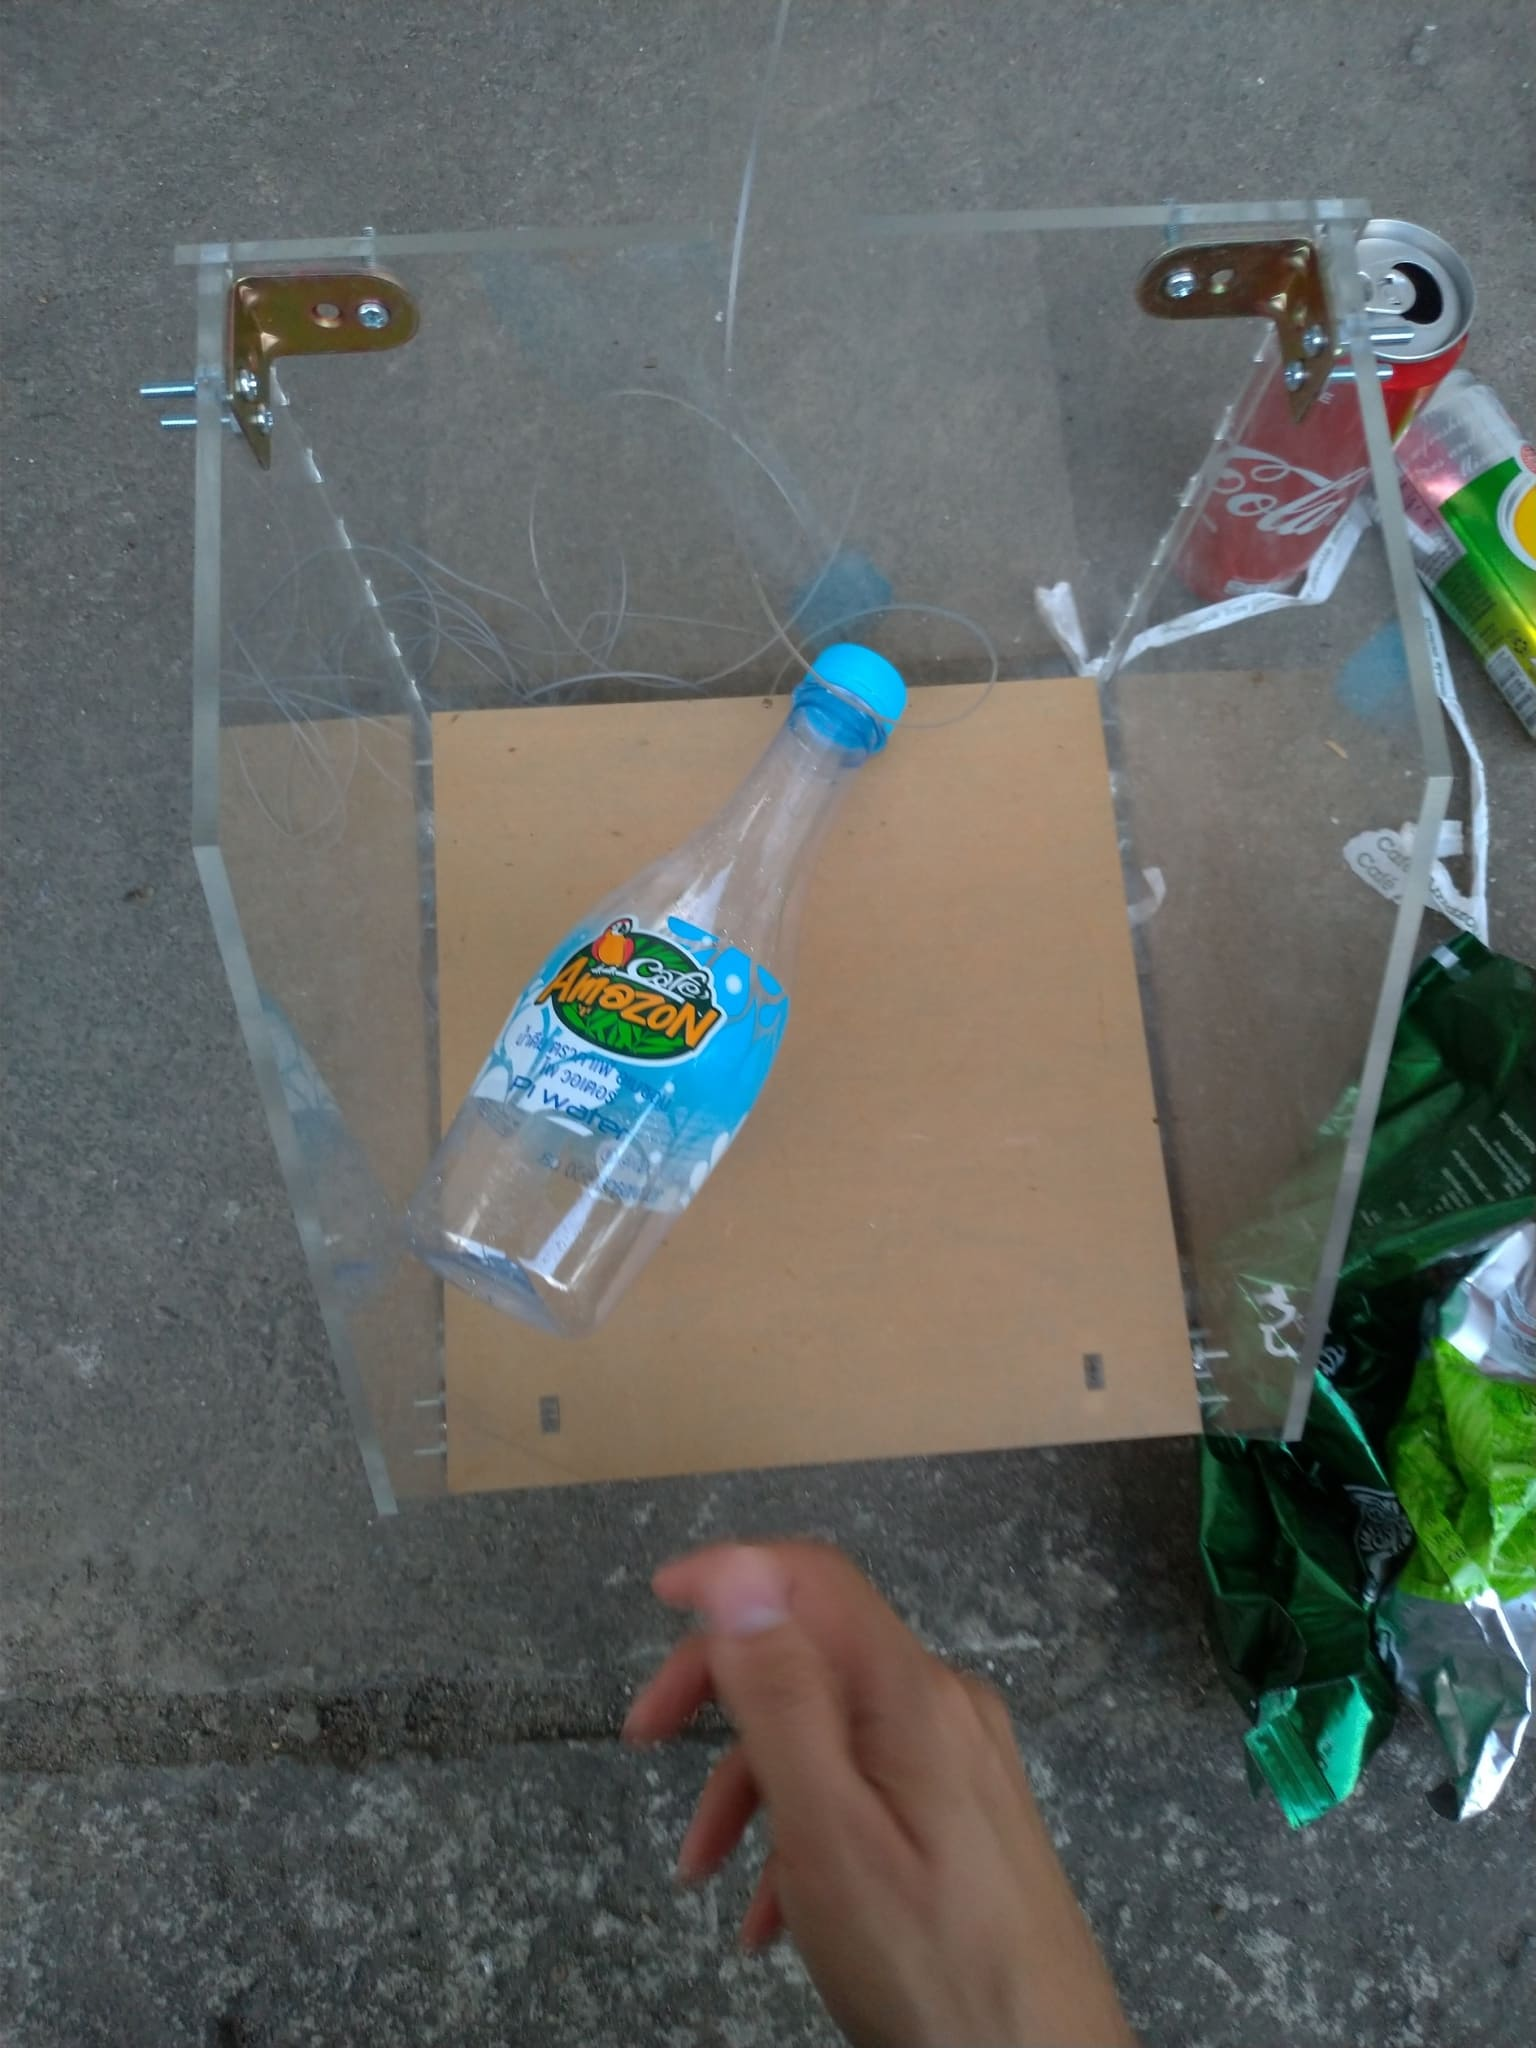AlCan: (1171, 213, 1480, 613), (1379, 368, 1536, 716)
Others: (1183, 939, 1536, 1825), (1383, 1219, 1536, 1832), (1016, 490, 1388, 681), (1350, 571, 1509, 948)
PlasticBottle: (403, 639, 916, 1332)
